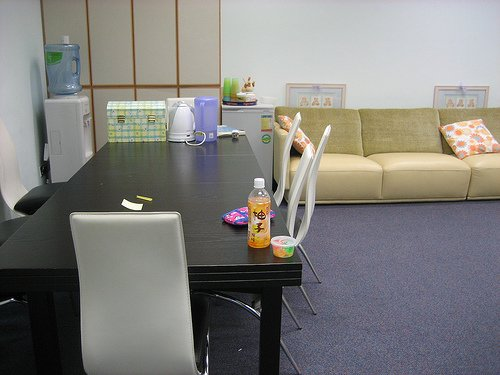bottle: (248, 180, 272, 249)
chair: (68, 216, 198, 375), (272, 114, 312, 216), (272, 112, 302, 212), (107, 103, 168, 143), (167, 100, 196, 142)
couch: (274, 110, 500, 205)
cup: (272, 237, 298, 258)
dining table: (6, 139, 300, 368)
